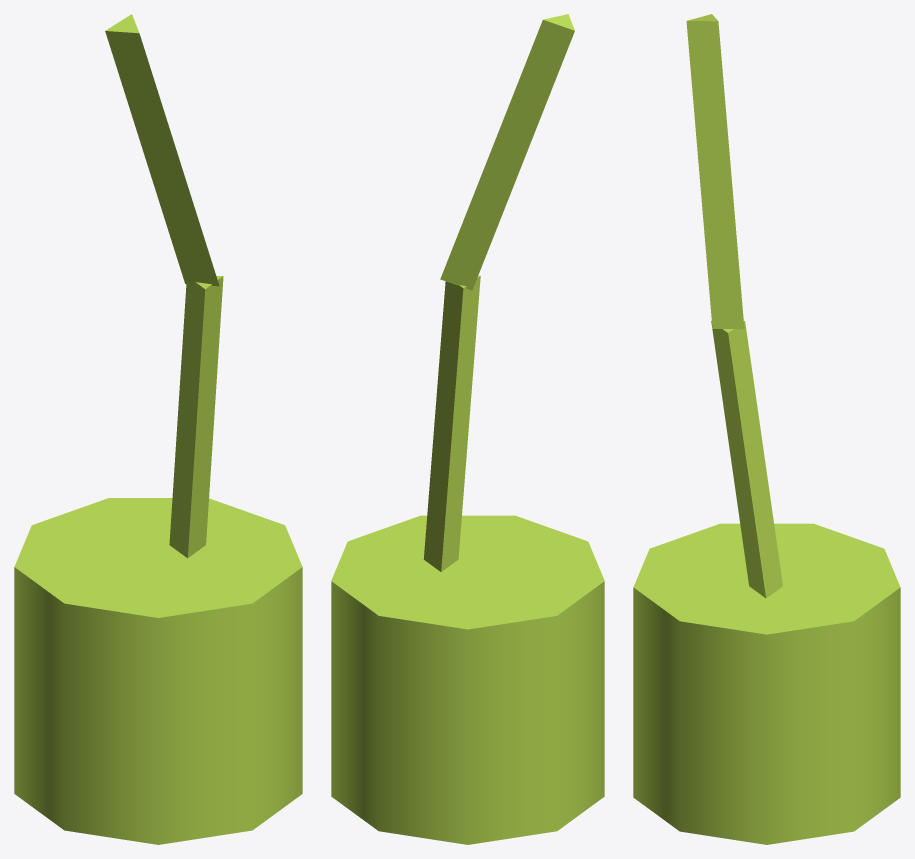
Rendered from flower1_convex.fbx.
3 renders of one model, left to right at view 1: azimuth 30°, elevation 25°; view 2: azimuth 150°, elevation 25°; view 3: azimuth 270°, elevation 25°, orthographic. The views are drawn at different scales.
Parts seen in each view (by area): view 1: flower1_convex.001, flower1_convex.002, flower1_convex; view 2: flower1_convex.001, flower1_convex.002, flower1_convex; view 3: flower1_convex.001, flower1_convex, flower1_convex.002.
Part boxes in pixels (x1,y1,x2,y2): flower1_convex.001: (14, 498, 302, 844); flower1_convex.002: (169, 276, 223, 558); flower1_convex: (105, 14, 219, 286); flower1_convex.001: (331, 515, 604, 844); flower1_convex.002: (423, 275, 480, 571); flower1_convex: (440, 14, 574, 290); flower1_convex.001: (633, 523, 900, 844); flower1_convex: (686, 14, 744, 329); flower1_convex.002: (711, 321, 782, 598).
Bounding box in the file's own units: 3.66 × 3.72 × 11.4.
